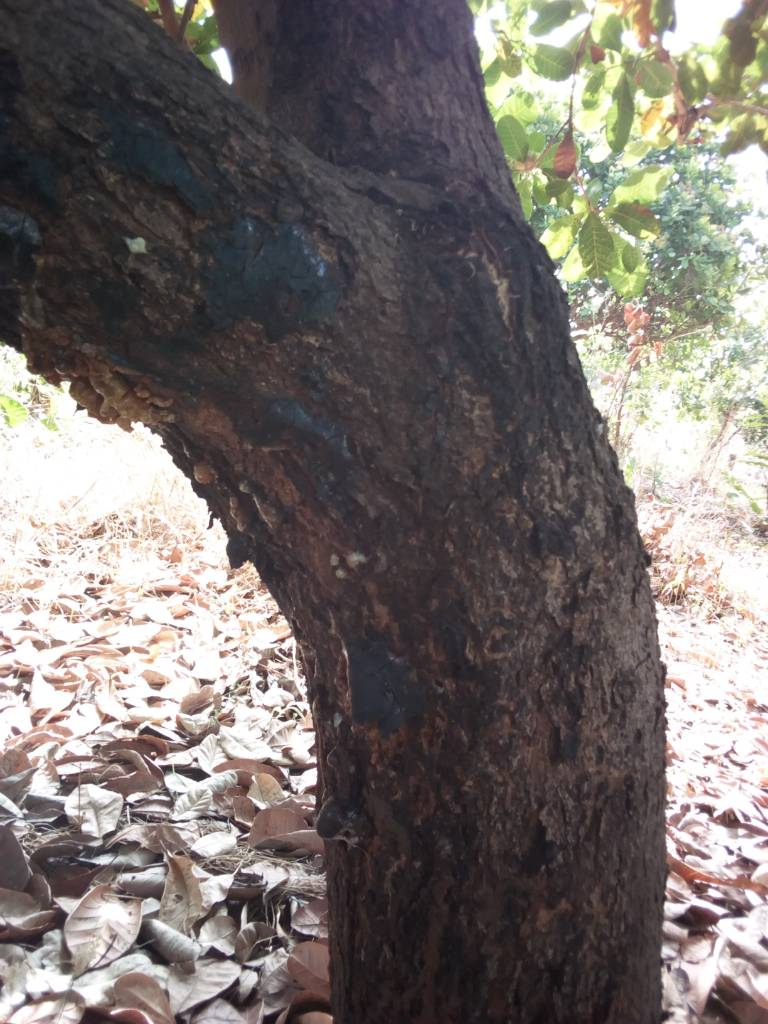Gommose: (347, 336, 544, 1024), (1, 117, 227, 405)
